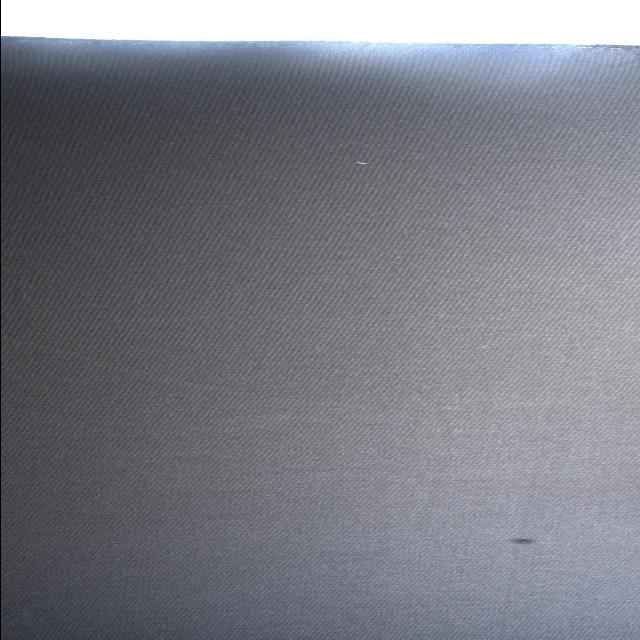crease: (352, 369, 456, 517), (5, 338, 260, 394)
whiteDefect: (346, 160, 371, 165)
